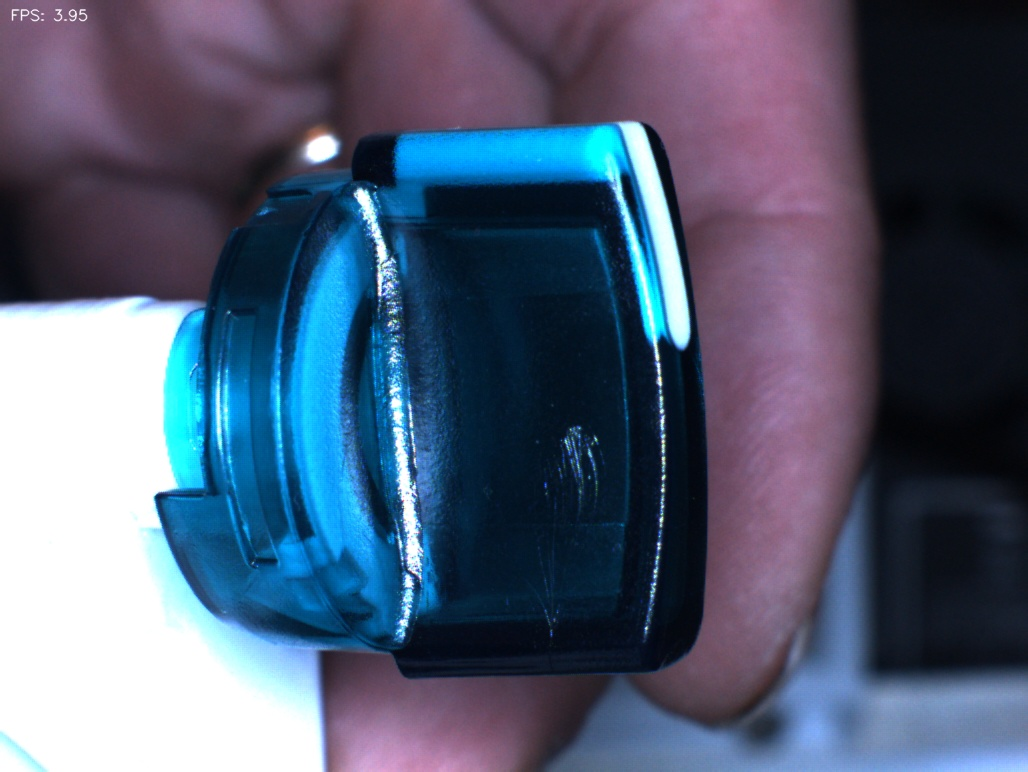Givrage: (514, 422, 607, 644)
